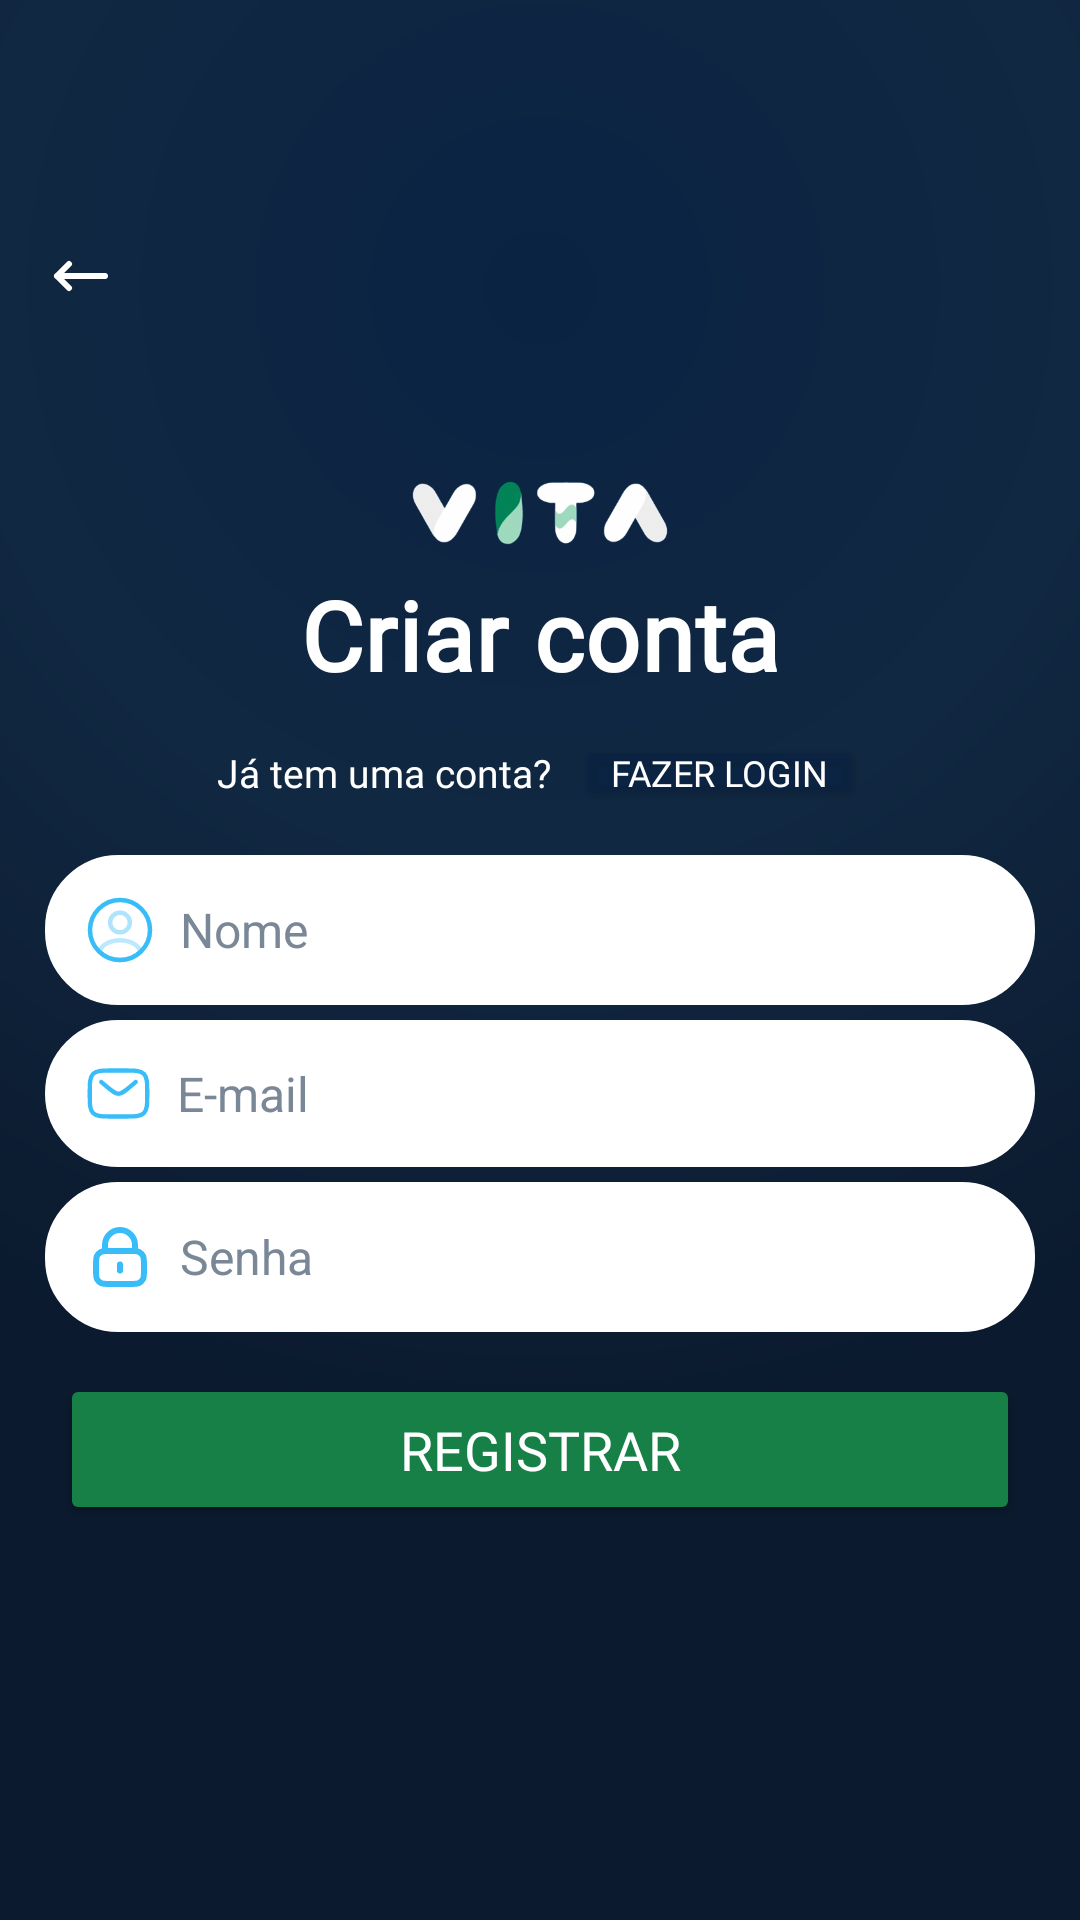

Locate icon controls on the screen. Image size 1080x1920, boxes as bbox=[x1, y1, x2, y2].
arrow: bbox=[54, 261, 108, 291]
